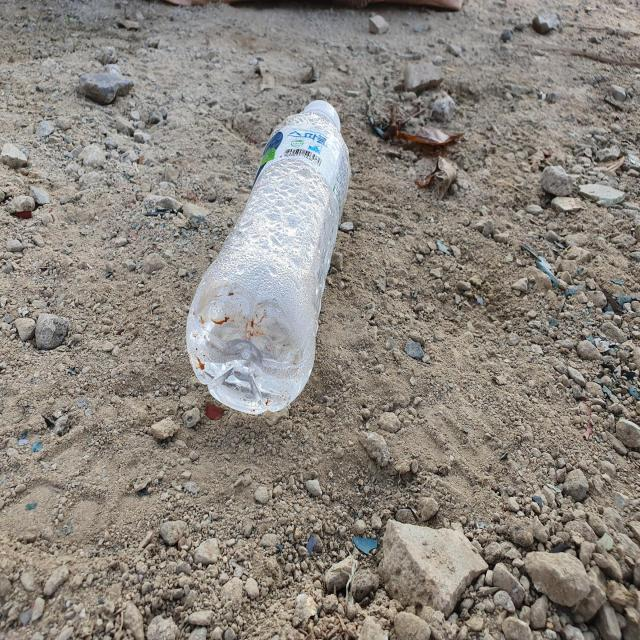plastic: (186, 99, 350, 414)
